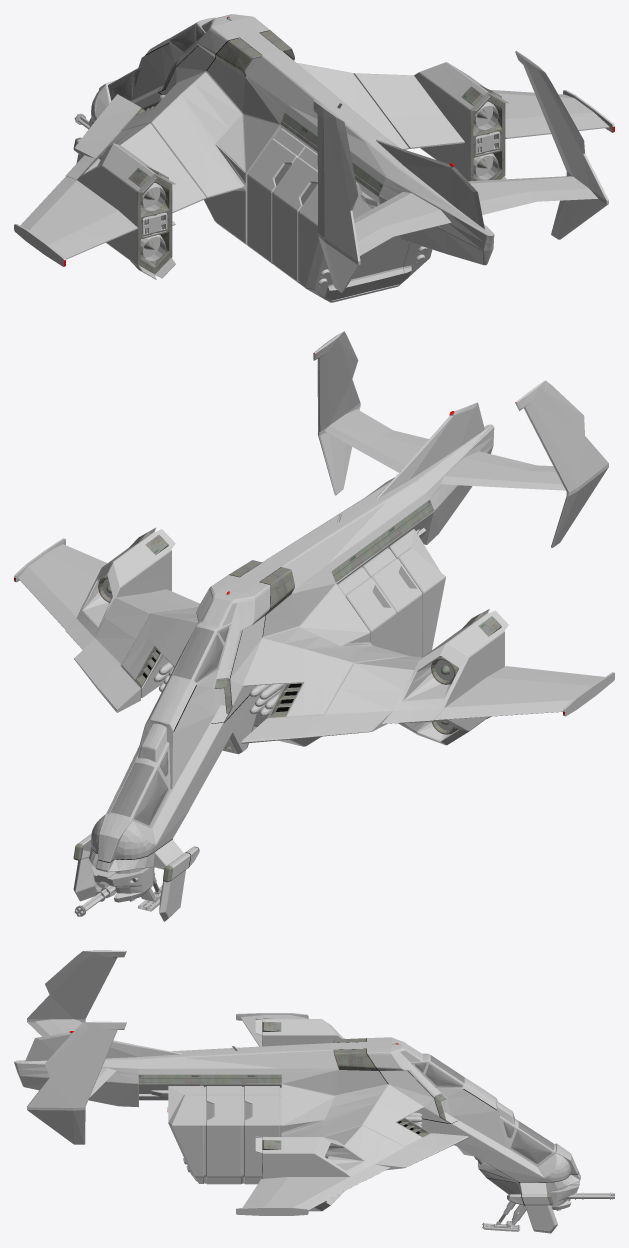
The model's file is MV-24H Vulture.obj.
3 renders of one model, top to bottom at view 1: azimuth 30°, elevation 25°; view 2: azimuth 150°, elevation 25°; view 3: azimuth 270°, elevation 25°, orthographic. The views are drawn at different scales.
Parts seen in each view (by area): view 1: Mesh_0021, Mesh_0023, Mesh_0025, Mesh_0027; view 2: Mesh_0021, Mesh_0025, Mesh_0023, Mesh_0027; view 3: Mesh_0021, Mesh_0025, Mesh_0023, Mesh_0027, Mesh_0022.
Boxes of the visible parts, x1,y1,x2,y2 form: Mesh_0021: (14, 14, 614, 302); Mesh_0023: (73, 30, 505, 274); Mesh_0025: (67, 17, 500, 300); Mesh_0027: (109, 26, 317, 205); Mesh_0021: (14, 331, 614, 921); Mesh_0025: (74, 525, 454, 921); Mesh_0023: (73, 499, 501, 891); Mesh_0027: (111, 566, 416, 825); Mesh_0021: (14, 950, 580, 1233); Mesh_0025: (139, 1044, 614, 1231); Mesh_0023: (138, 1018, 553, 1222); Mesh_0027: (206, 1055, 554, 1163); Mesh_0022: (337, 1038, 578, 1205).
Size of the model in its own units: 1406 by 818 by 1831.
